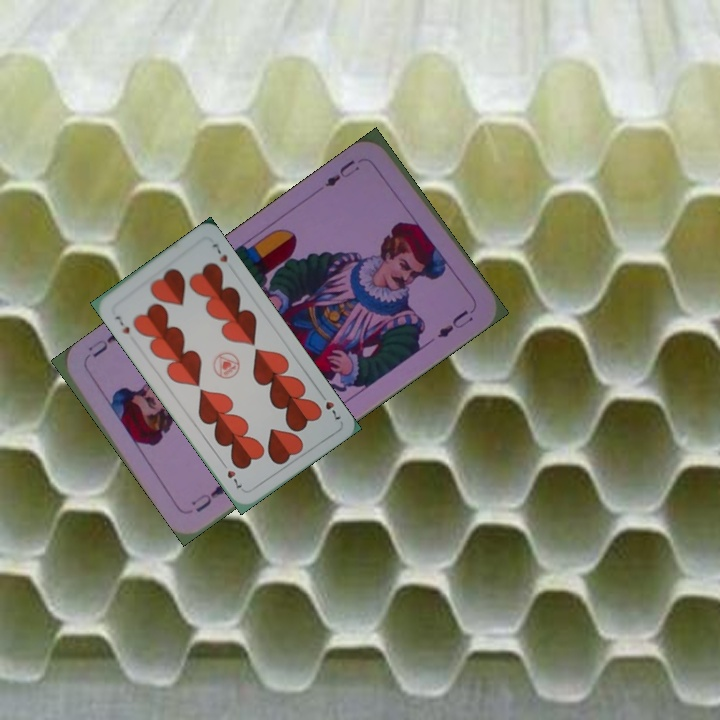EU: (187, 481, 229, 516), (321, 156, 363, 190)
H7: (316, 388, 344, 423), (111, 312, 132, 336)
